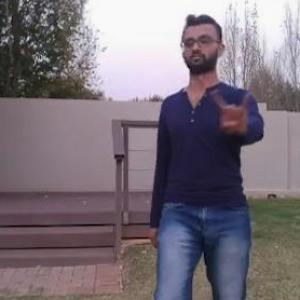takeoff-hand: (204, 80, 263, 141)
